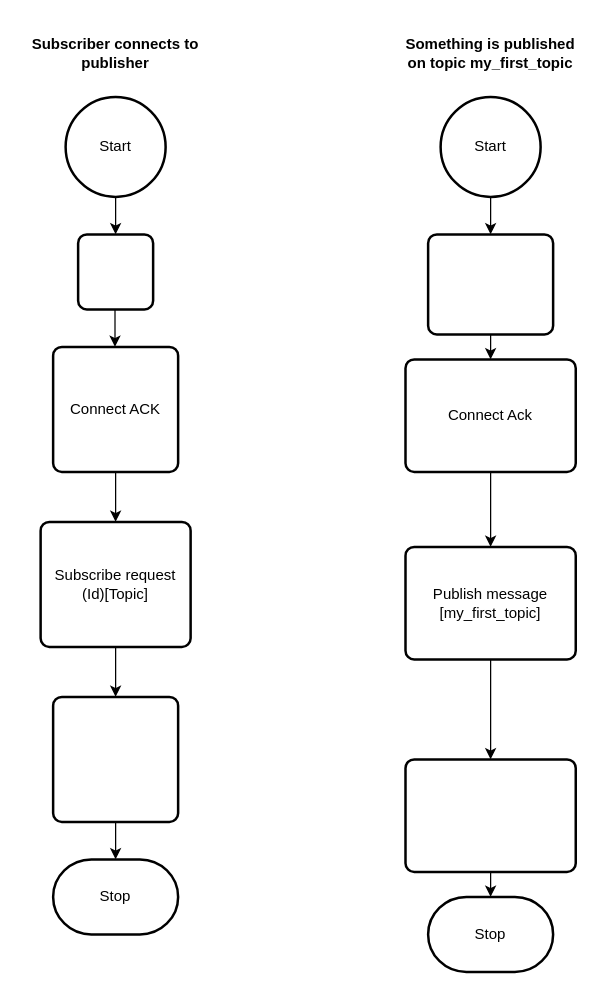
Some shapes in this 605 by 994 pixel diagram are drawn without their labels. Here are the shapes that lost their labels. From the top down, the box of each, then its label:
(76, 232, 154, 310): Connect
(426, 232, 554, 335): Connect command
(51, 695, 179, 822): Subscribe Ack (Id)
(404, 758, 576, 872): Publish Ack
